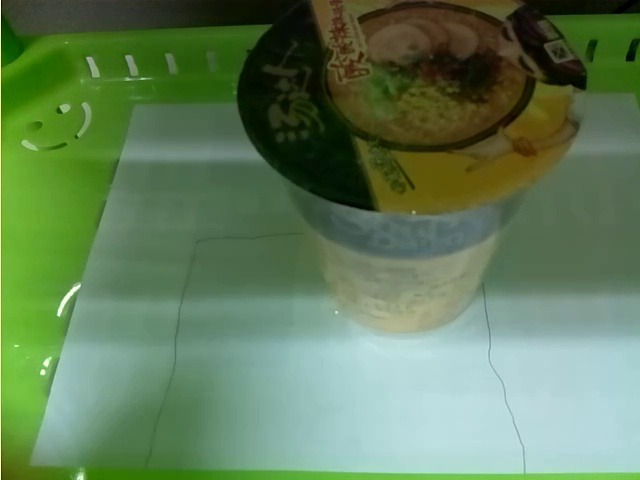noodles: (229, 1, 589, 339)
